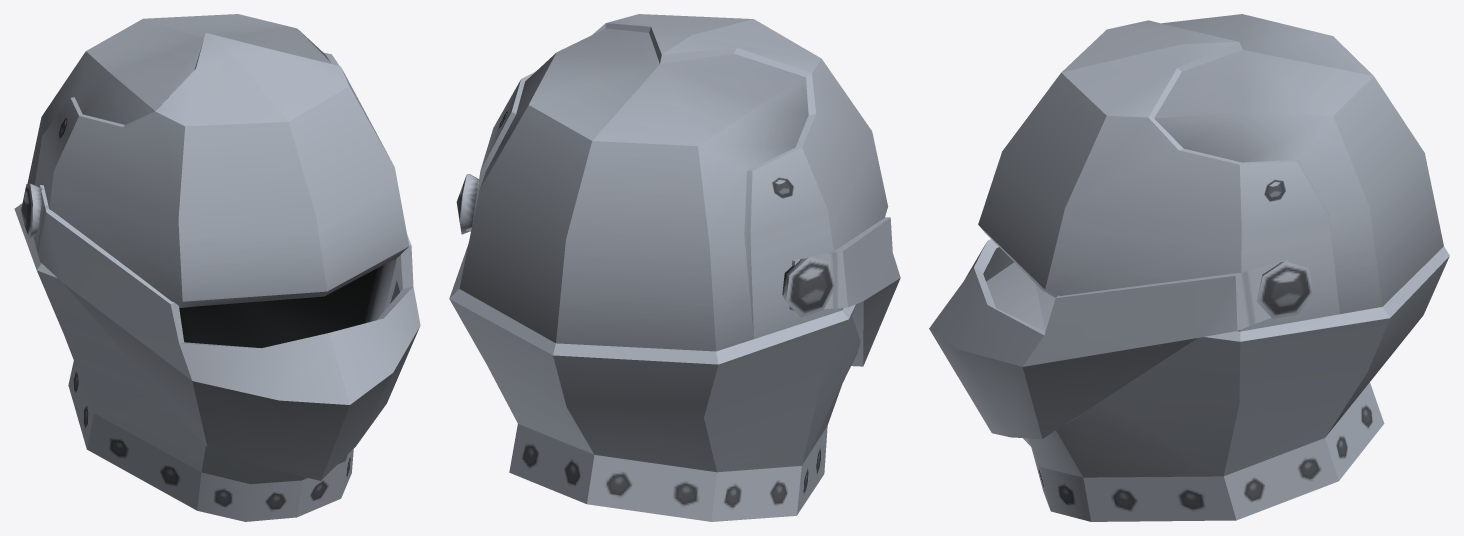
Rendered from pk-polysplit-heroes-armethelmet-m.glb.
3 renders of one model, left to right at view 1: azimuth 30°, elevation 25°; view 2: azimuth 150°, elevation 25°; view 3: azimuth 270°, elevation 25°, orthographic. The views are drawn at different scales.
Parts seen in each view (by area): view 1: ArmetHelmet_M, ArmetHelmet_M_Visor; view 2: ArmetHelmet_M, ArmetHelmet_M_Visor; view 3: ArmetHelmet_M, ArmetHelmet_M_Visor.
Boxes of the visible parts, box(x1,y1,x2,y2) form: ArmetHelmet_M: box(14, 14, 409, 521); ArmetHelmet_M_Visor: box(21, 183, 420, 480); ArmetHelmet_M: box(449, 14, 888, 521); ArmetHelmet_M_Visor: box(456, 174, 900, 366); ArmetHelmet_M: box(978, 14, 1449, 521); ArmetHelmet_M_Visor: box(929, 239, 1313, 438).
Bounding box in the file's own units: 0.2878 × 0.3409 × 0.3582.
Materials: 1 (1 with a texture image).
